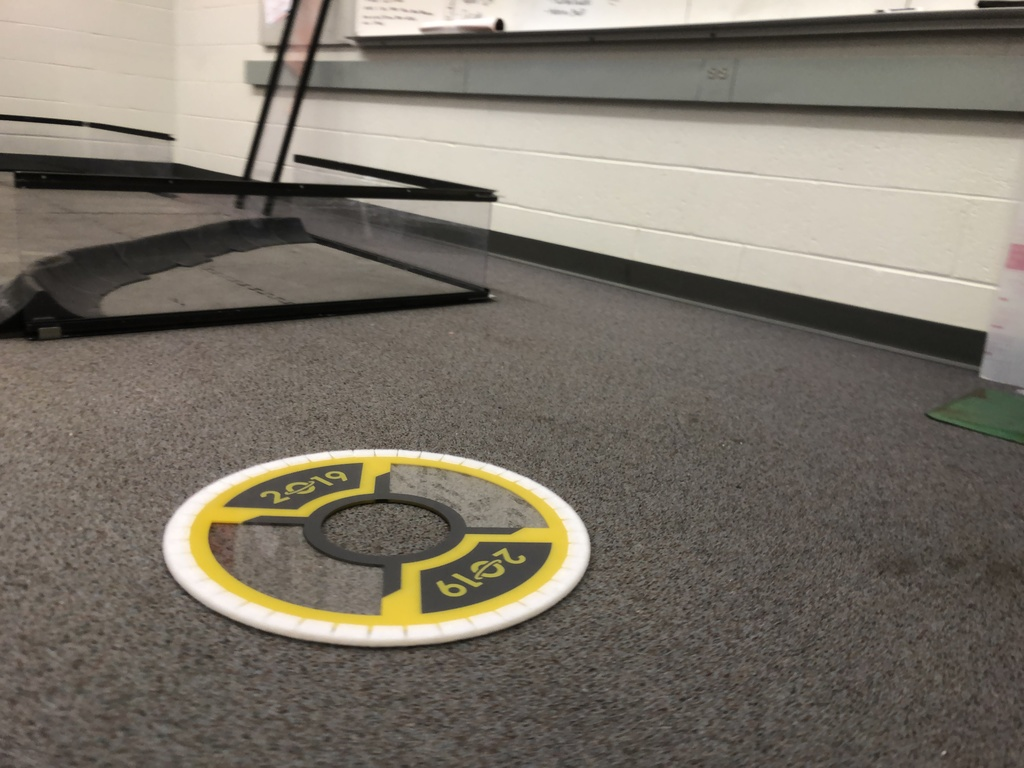hatch_panel: (142, 432, 620, 666)
